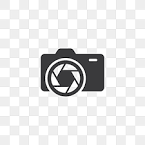camera: (39, 46, 104, 96)
